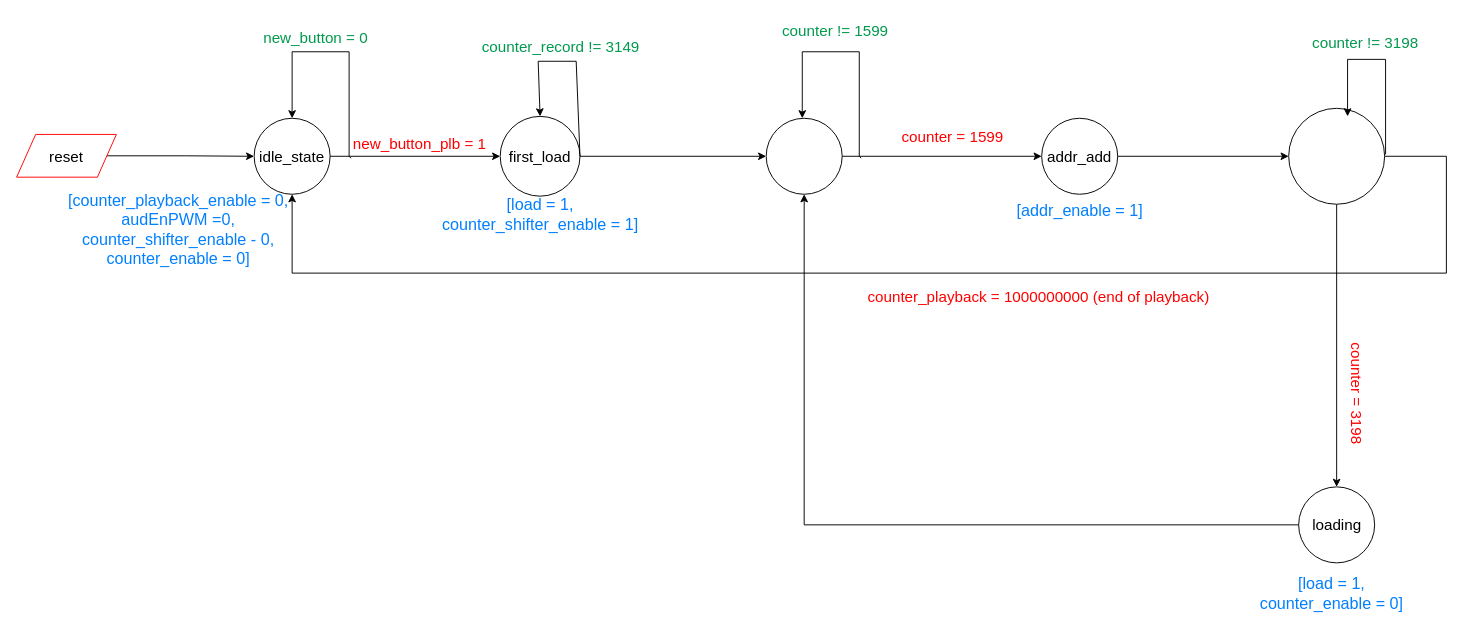
This 1471x630 diagram has some shape labels left out. The shapes that lost their labels are listed below. From the top down, each one's centre as x and y in pixels, then its label:
the point at 803,155: serialisation
the point at 1336,155: last_bits_ serialization
